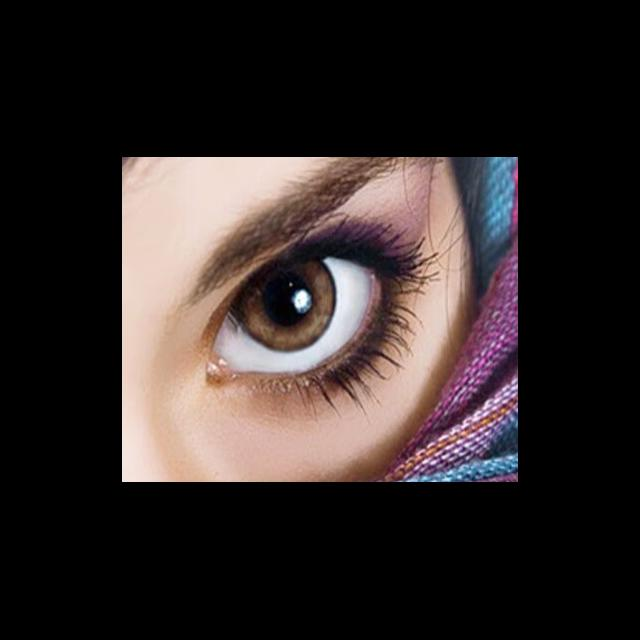eye: (221, 256, 372, 376)
iris: (235, 260, 330, 352)
